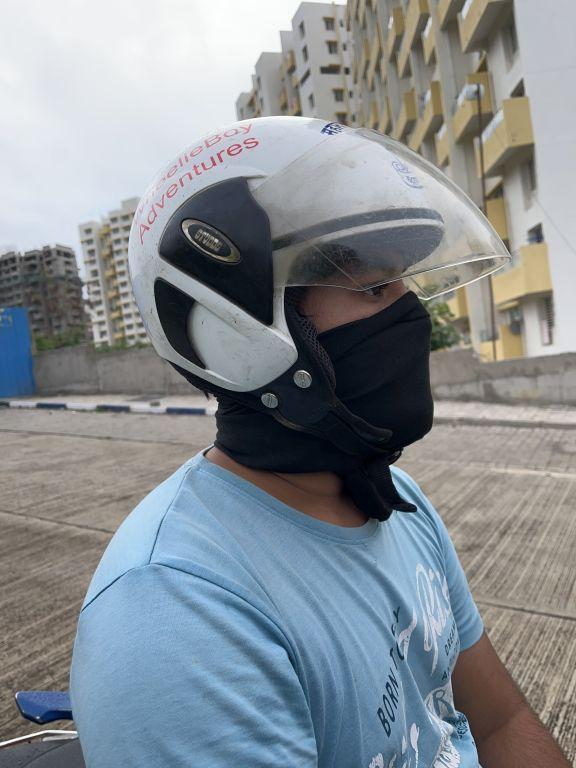helmet: (119, 104, 516, 481)
